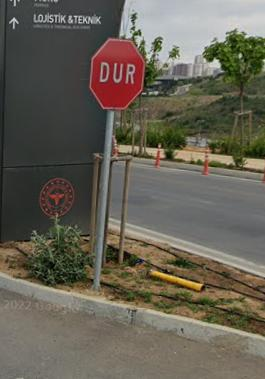stop: (92, 37, 144, 109)
